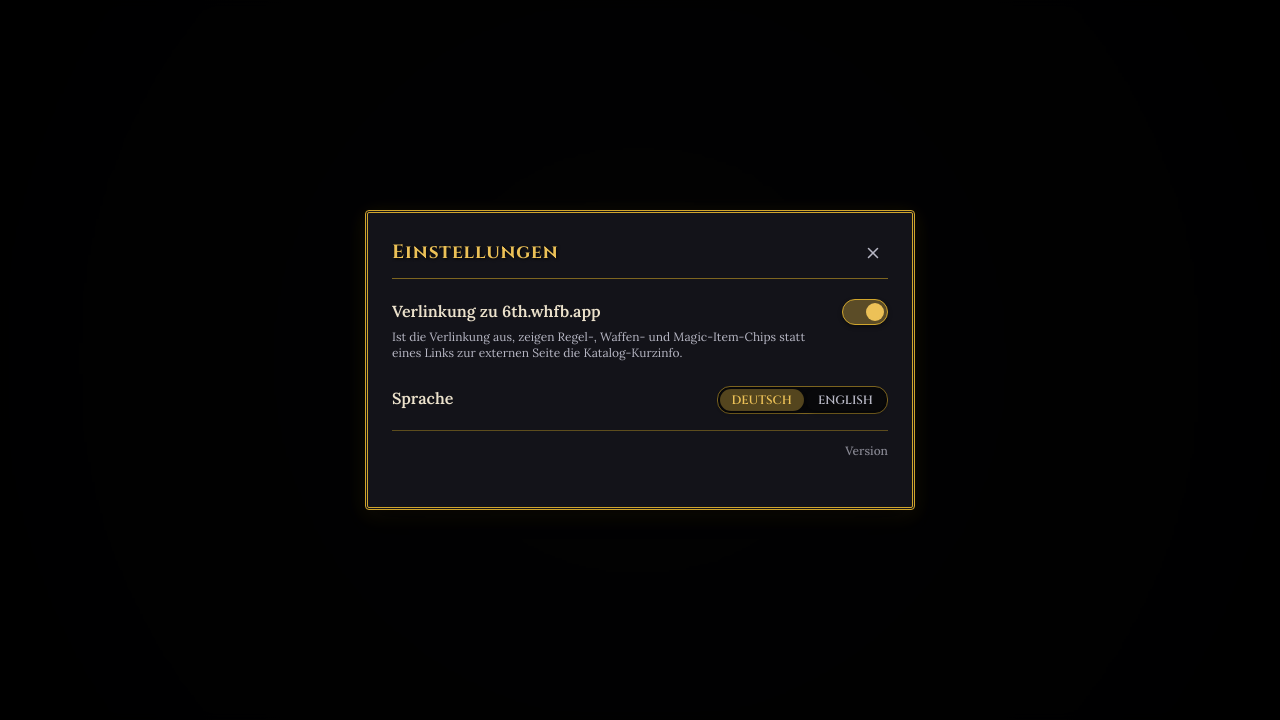
Test: SettingsDialog › switches the whole dialog to English immediately when English is chosen
Expected: the heading "Einstellungen" is shown, [392,237,559,268]
Click the radio button with test id "language-option-en".
click(845, 400)  # box [806,389,885,411]
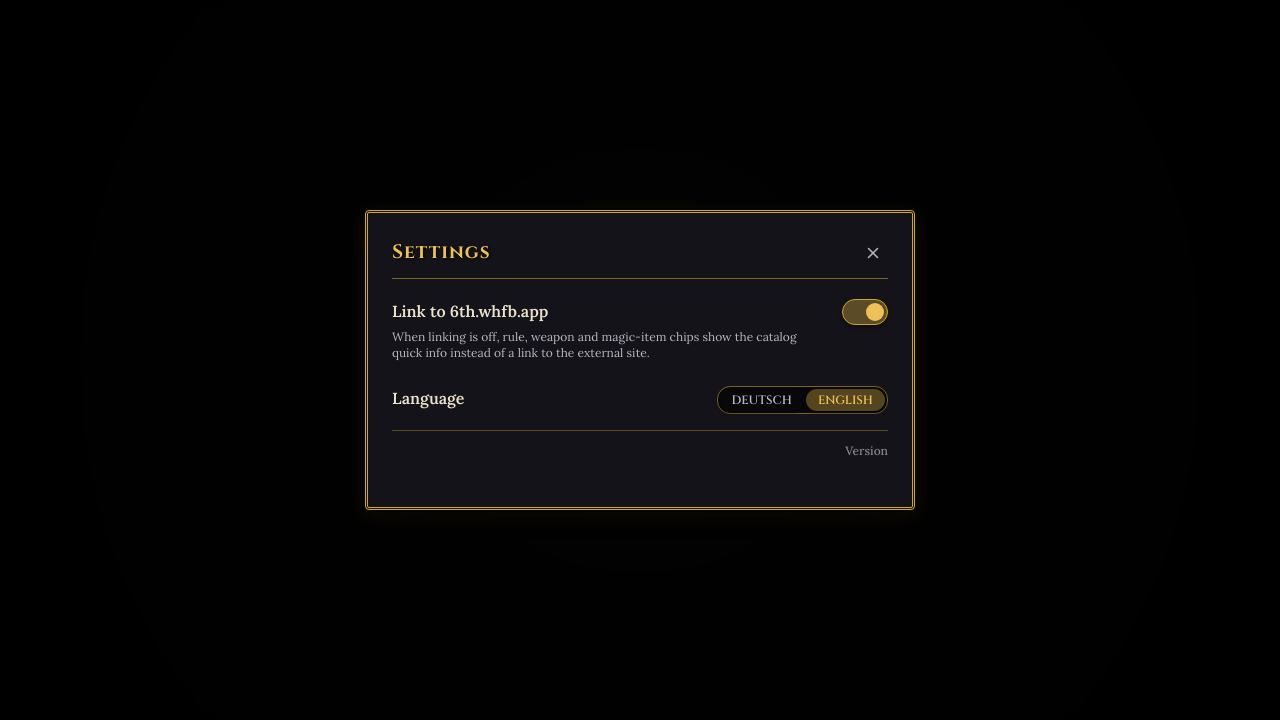
Expected: the heading "Settings" is shown, [392,237,490,268]
